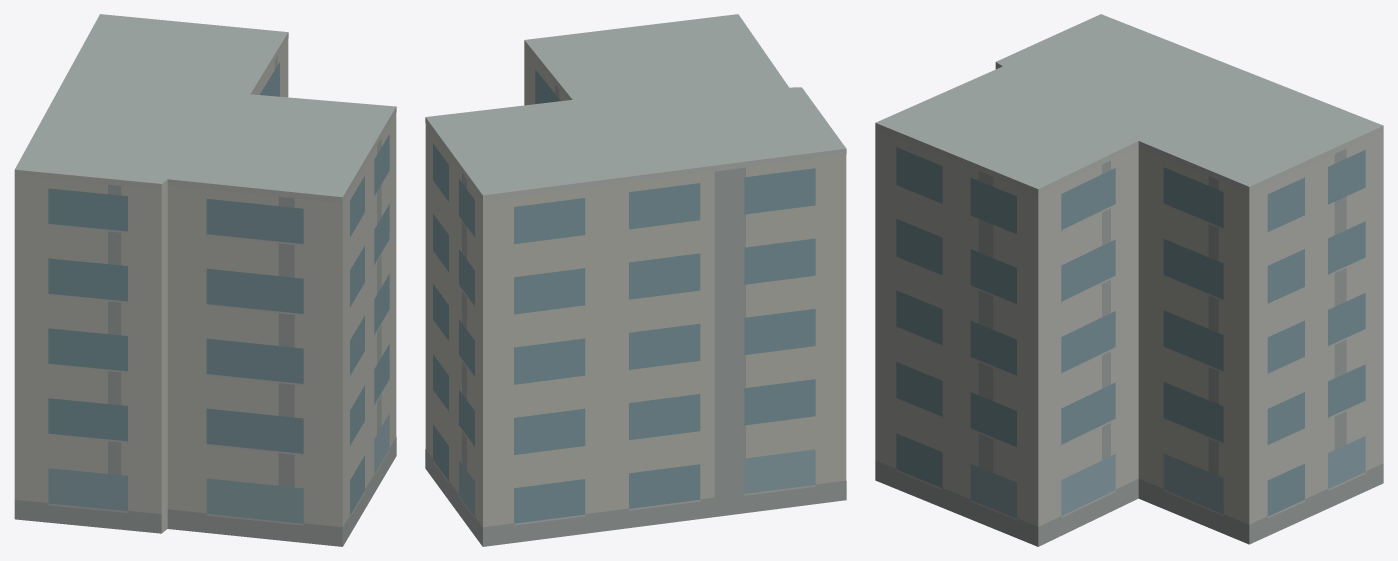
File: survey-upis-32881616.glb
3 views of the same model, side by side, from view 1: azimuth 30°, elevation 25°; view 2: azimuth 150°, elevation 25°; view 3: azimuth 270°, elevation 25° (orthographic). The views are drawn at different scales.
Visible parts, largest first — view 1: survey-upis-32881616.tmp; view 2: survey-upis-32881616.tmp; view 3: survey-upis-32881616.tmp.
Boxes of the visible parts, left/top/right/bottom form: survey-upis-32881616.tmp: left=14, top=14, right=396, bottom=546; survey-upis-32881616.tmp: left=425, top=14, right=846, bottom=546; survey-upis-32881616.tmp: left=875, top=14, right=1383, bottom=546.
Bounding box in the file's own units: 14.93 × 14.2 × 18.3.
